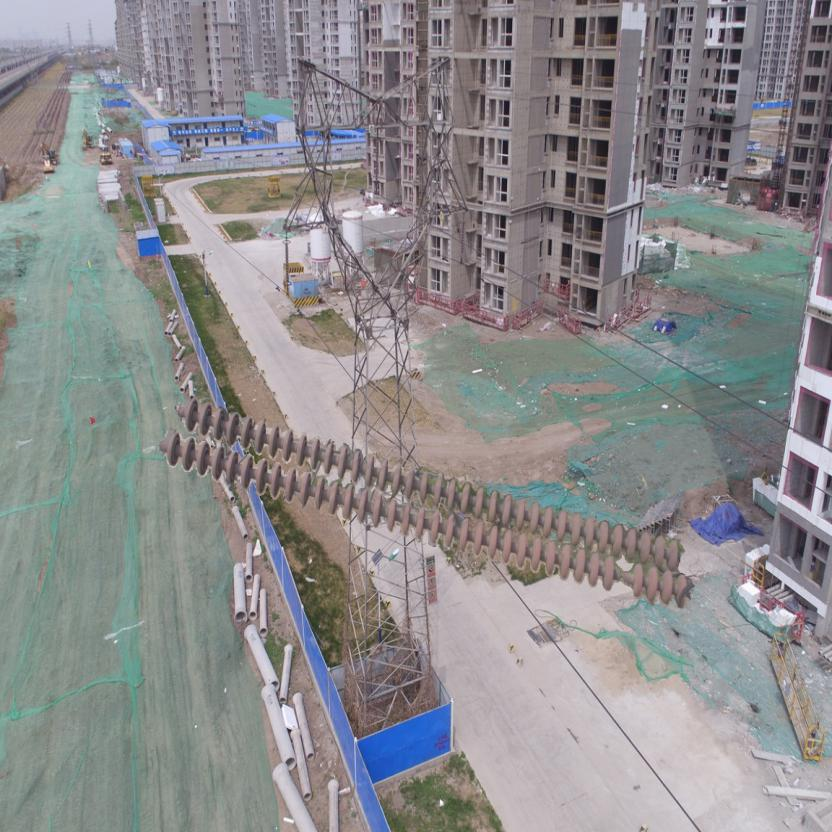defect: (596, 552, 648, 598)
